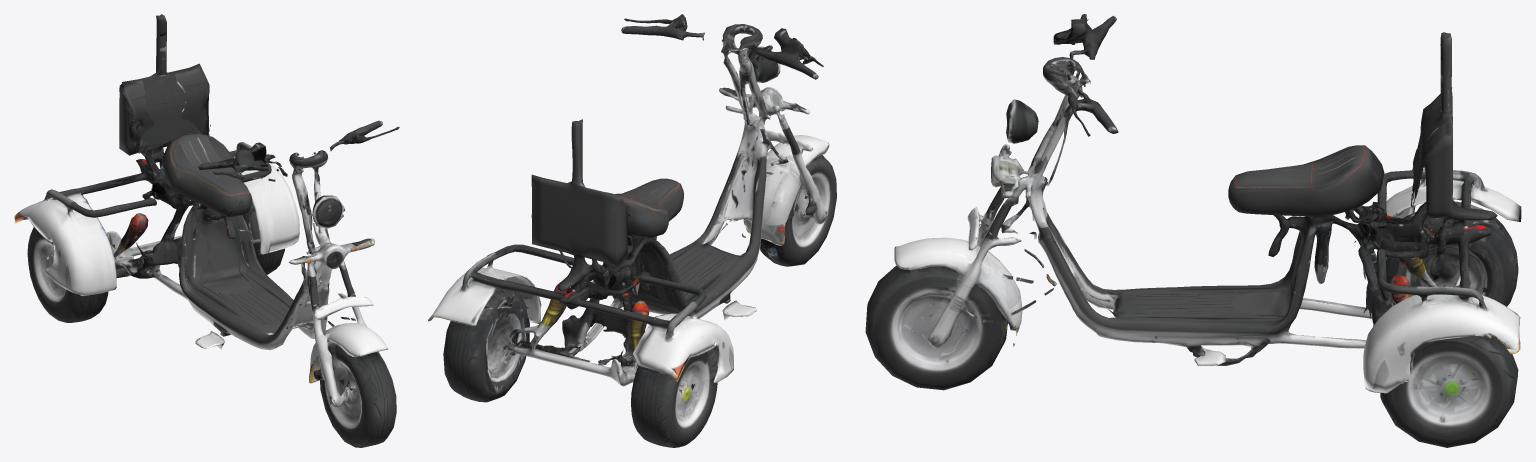
The model's file is scooter.glb.
3 views of the same model, side by side, from view 1: azimuth 30°, elevation 25°; view 2: azimuth 150°, elevation 25°; view 3: azimuth 270°, elevation 25° (orthographic). The views are drawn at different scales.
Size of the model in its own units: 1.05 by 1.19 by 1.99.
Materials: 1 (1 with a texture image).
